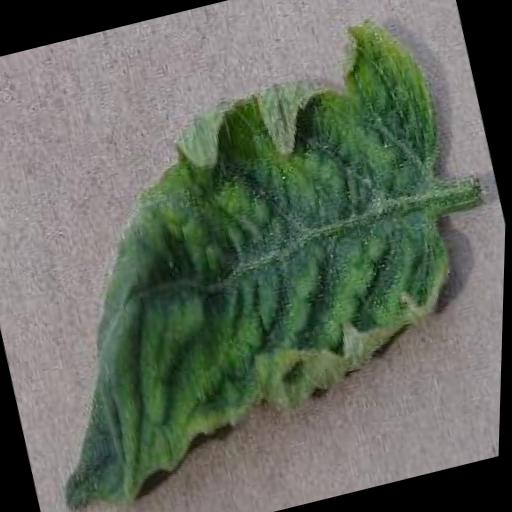Yellow Leaf Curl Virus: (0, 3, 512, 512)
